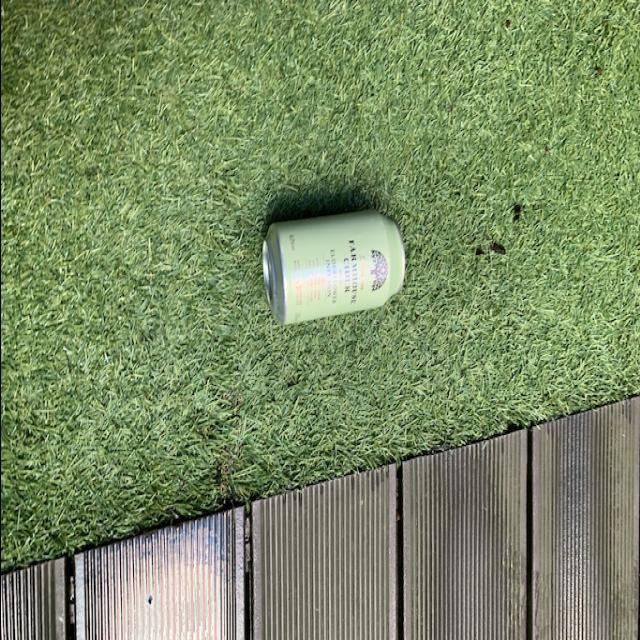Aluminum Can: (255, 200, 407, 331)
